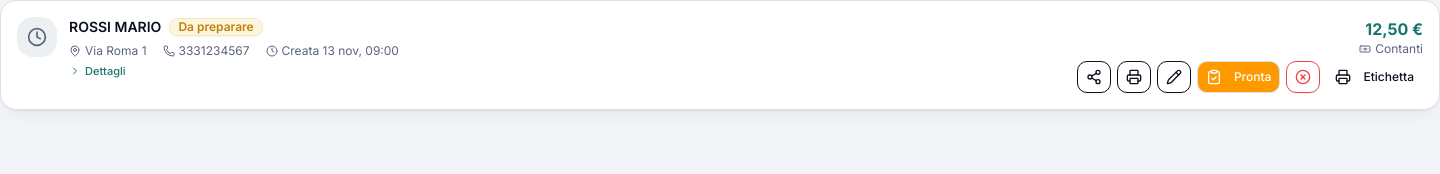
riga della consegna › i dettagli restano chiusi finche non si tocca la riga
What coordinates should you click on to do the following:
click the element with test id "riga-consegna-d1"
I would click on:
 (720, 55)
Its box is [0,0,1439,110].
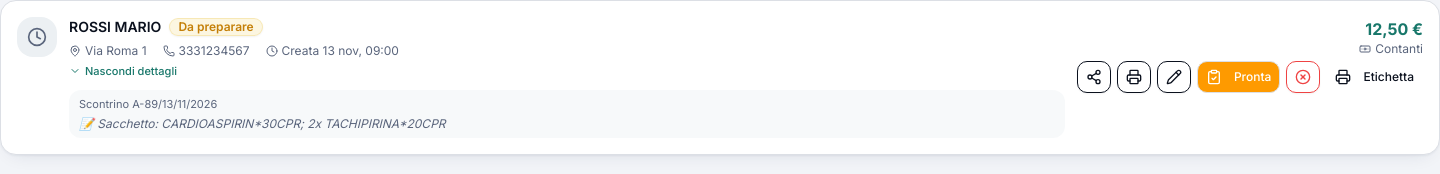
Result: the element with test id "dettagli-d1" shows "CARDIOASPIRIN*30CPR" at [97,116,446,131]
What coordinates should you click on to do the following:
click the element with test id "riga-consegna-d1"
I would click on:
 (720, 78)
Its box is [0,0,1439,155].
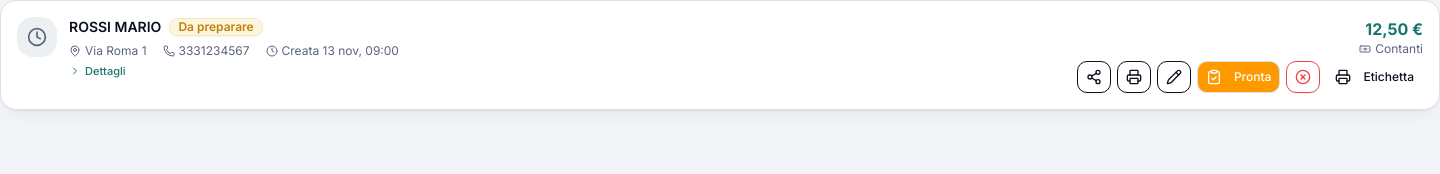
Result: the element with test id "dettagli-d1" is gone
